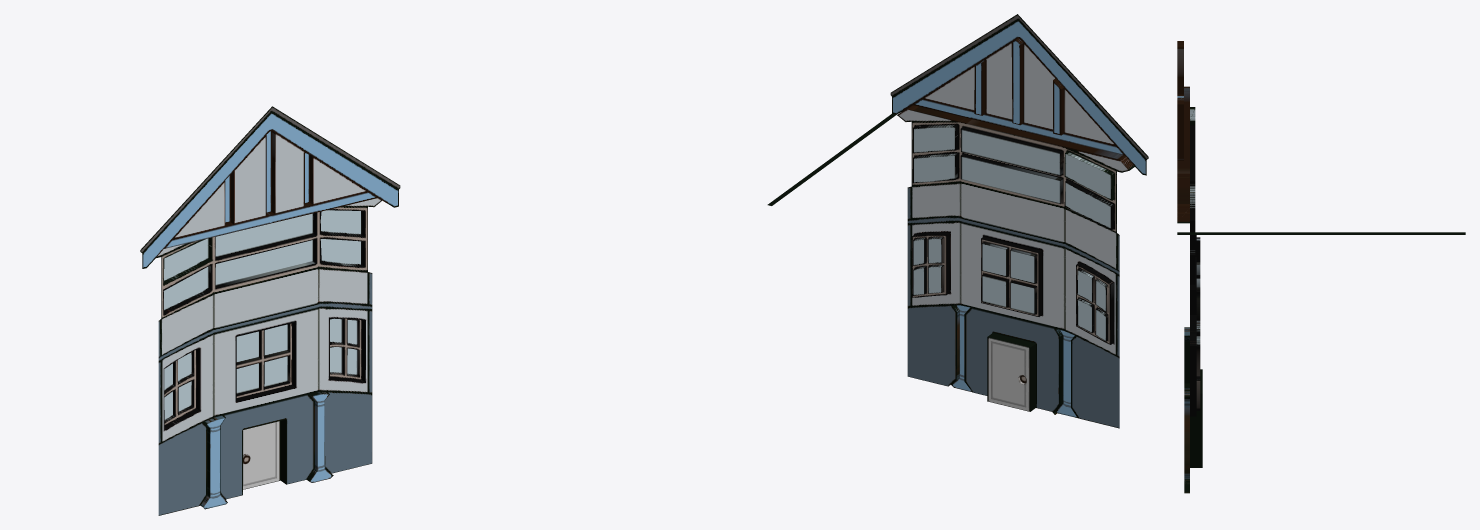
File: Another Anotouse (2).fbx
The picture shows the model from 3 angles, left to right: view 1: azimuth 30°, elevation 25°; view 2: azimuth 150°, elevation 25°; view 3: azimuth 270°, elevation 25°; orthographic projection. The views are drawn at different scales.
Visible parts, largest first — view 1: Plane; view 2: Plane; view 3: Plane.
Boxes of the visible parts, x1=… form: Plane: x1=140, y1=106, x2=400, y2=515; Plane: x1=767, y1=14, x2=1148, y2=428; Plane: x1=1177, y1=41, x2=1465, y2=493.
Bounding box in the file's own units: 251 × 190 × 111.
1 material, 1 textured.
